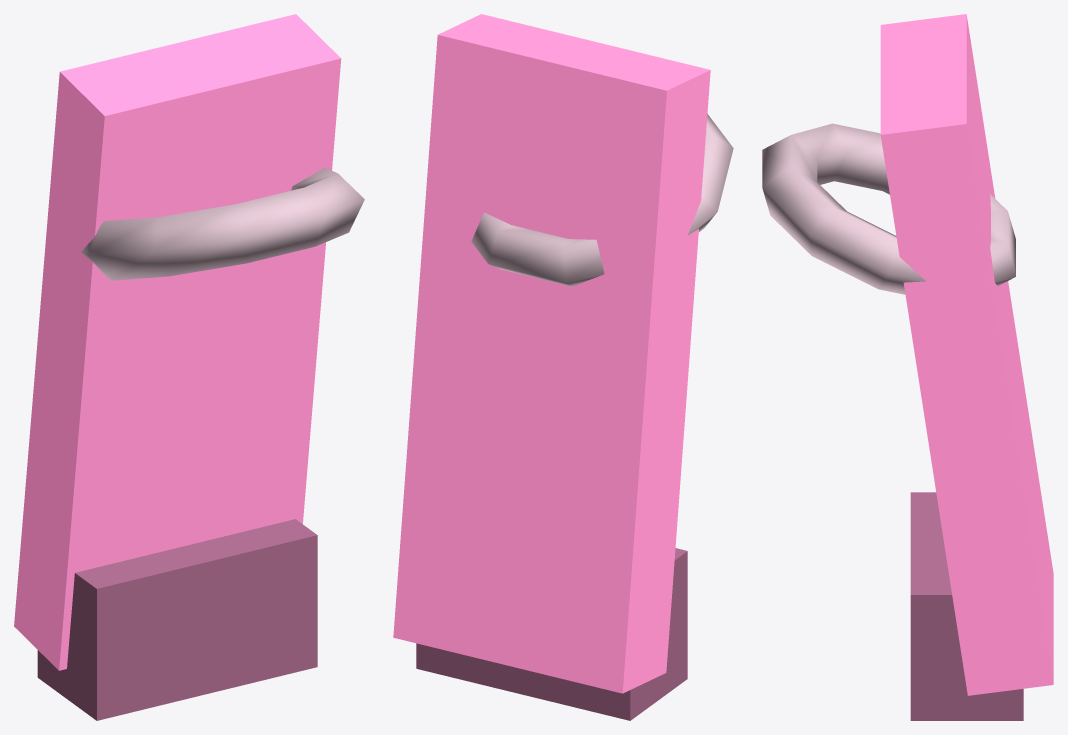
The model's file is terlik.glb.
3 renders of one model, left to right at view 1: azimuth 30°, elevation 25°; view 2: azimuth 150°, elevation 25°; view 3: azimuth 270°, elevation 25°, orthographic. The views are drawn at different scales.
Bounding box in the file's own units: 0.33 × 0.7635 × 0.336.
